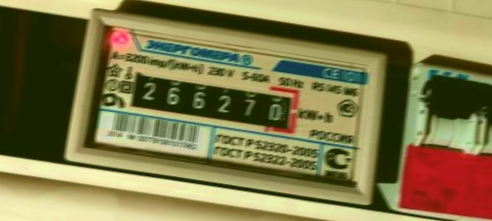0: (266, 101, 283, 123)
2: (140, 80, 156, 103), (216, 93, 232, 115)
6: (165, 85, 180, 107), (191, 89, 206, 110)
7: (242, 97, 255, 117)
screen: (117, 60, 306, 142)
